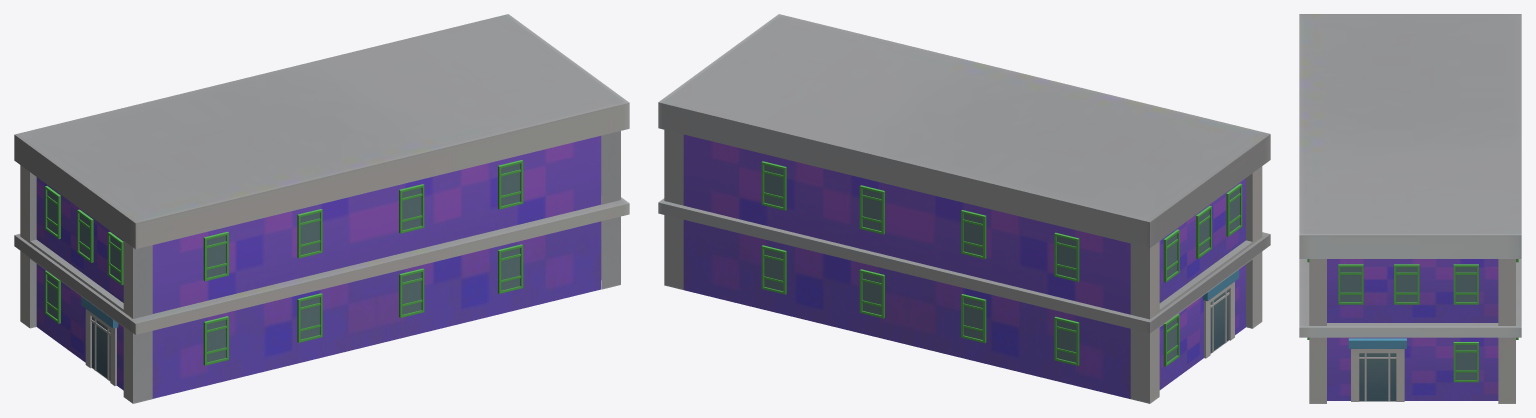
The model's file is nha_tim_dai.fbx.
3 renders of one model, left to right at view 1: azimuth 30°, elevation 25°; view 2: azimuth 150°, elevation 25°; view 3: azimuth 270°, elevation 25°, orthographic. The views are drawn at different scales.
Visible parts, largest first — view 1: nha_tim_dai; view 2: nha_tim_dai; view 3: nha_tim_dai.
Part boxes in pixels (<box>): nha_tim_dai: <box>14,14,629,403</box>; nha_tim_dai: <box>658,14,1270,403</box>; nha_tim_dai: <box>1299,14,1521,403</box>.
Size of the model in its own units: 2655 by 952 by 1129.
